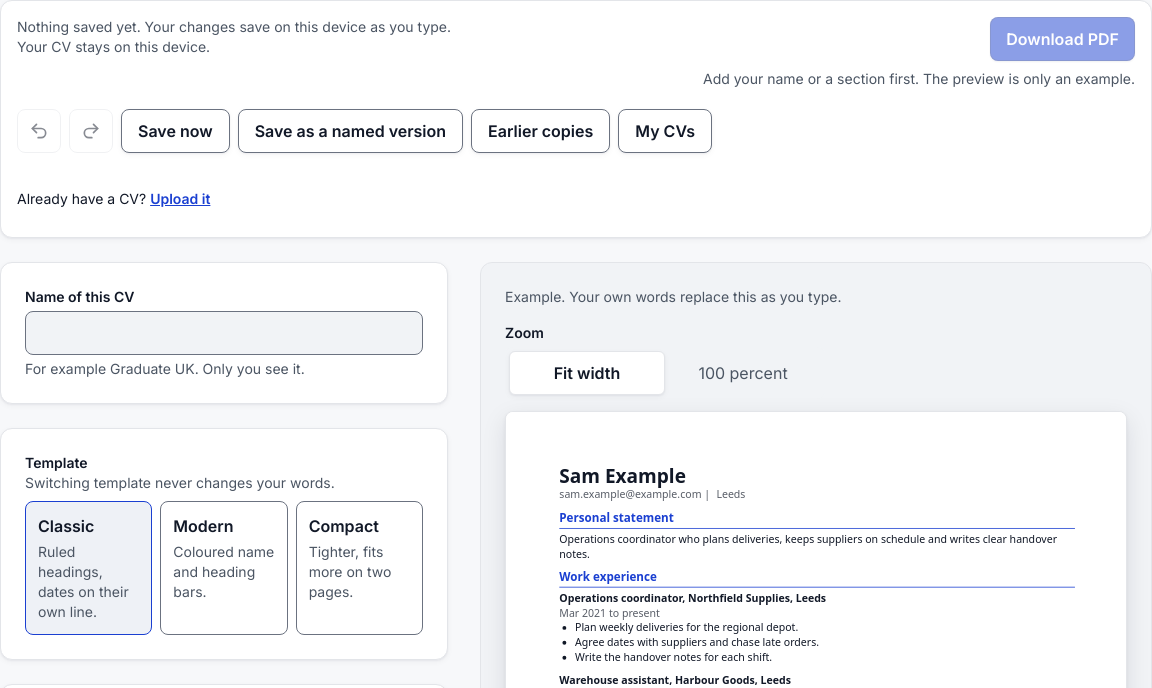
Scenario: list screen › explains blocked storage
The width and height of the screenshot is (1152, 688).
Click the button "My CVs" at (665, 131), box left=618, top=109, right=712, bottom=153
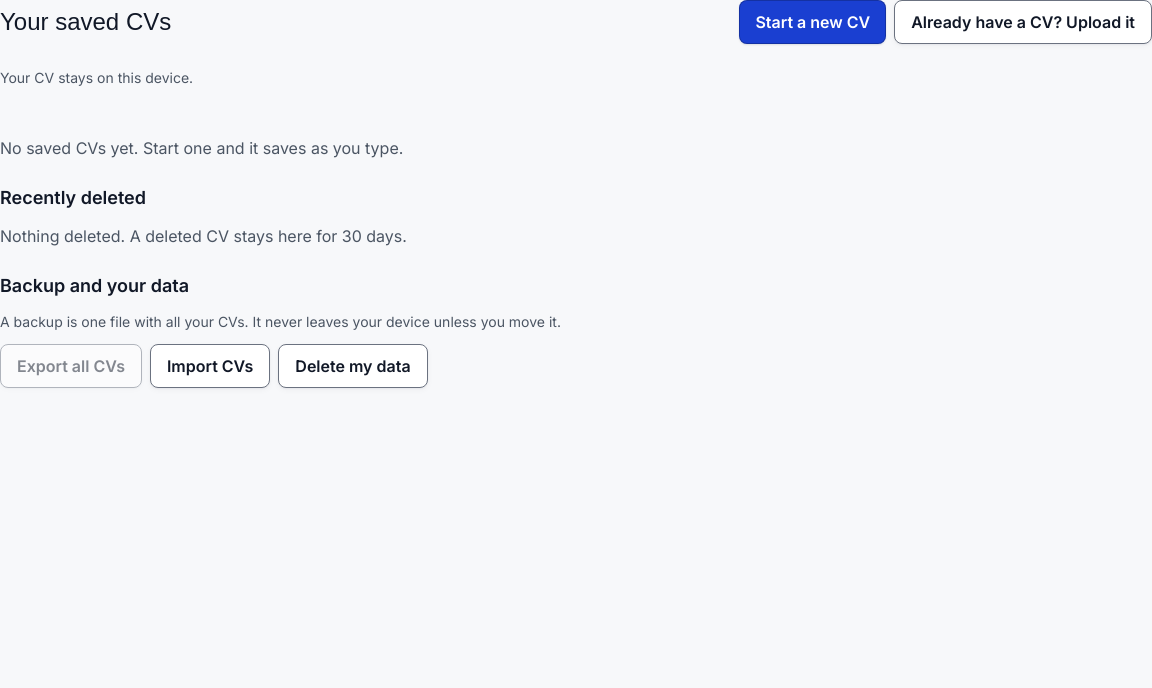
Expected: the heading "Your saved CVs" is shown, left=0, top=6, right=171, bottom=38
Click the button "Start a new CV" at (813, 22), box left=739, top=0, right=886, bottom=44
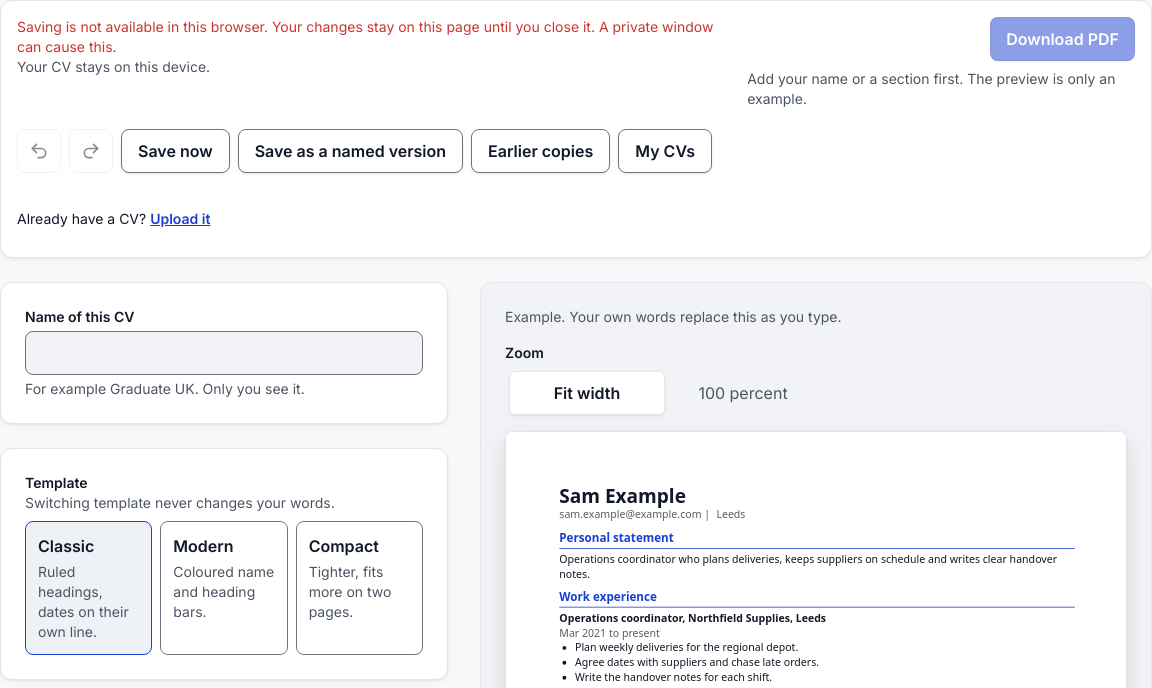
Click the button "My CVs" at (665, 151), box left=618, top=129, right=712, bottom=173
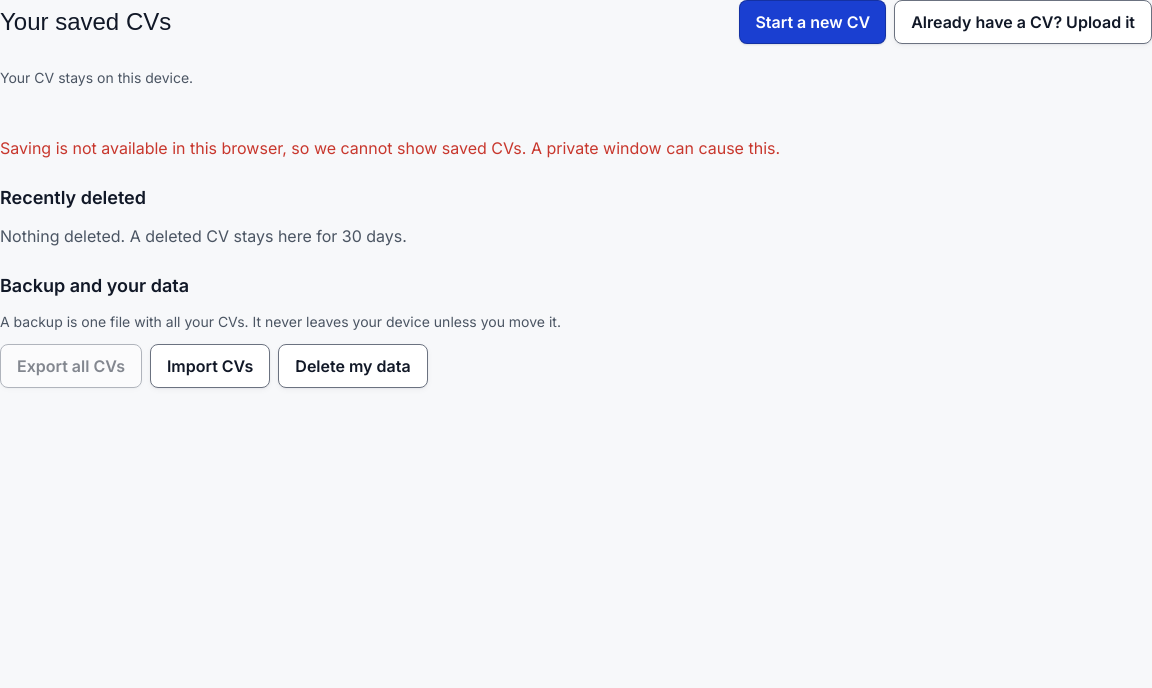
Expected: the message shows "Saving is not available", left=0, top=138, right=780, bottom=158
